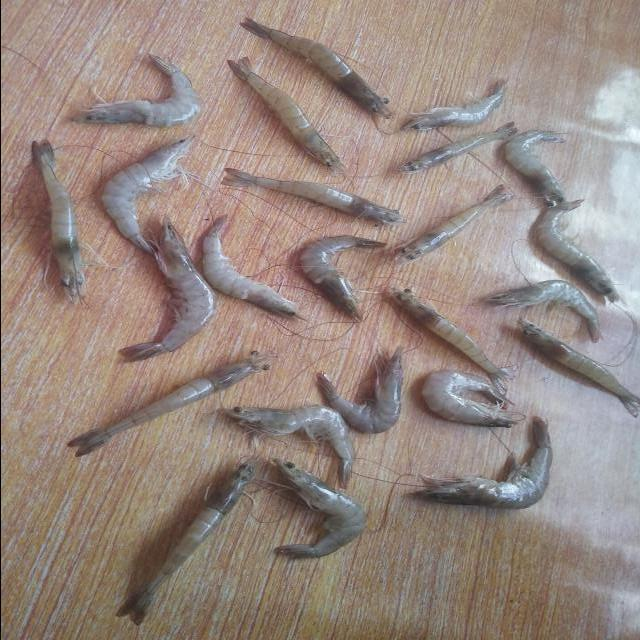shrimp: (116, 458, 258, 626), (67, 351, 273, 457), (240, 17, 391, 119), (119, 217, 215, 362), (227, 56, 345, 171), (391, 285, 517, 391), (413, 417, 553, 510), (518, 319, 640, 418), (216, 405, 354, 489), (100, 135, 193, 254), (202, 215, 304, 319), (221, 168, 405, 225), (395, 185, 514, 265), (273, 459, 366, 560), (72, 53, 199, 126), (30, 140, 84, 302), (538, 199, 620, 302), (318, 347, 403, 434), (299, 235, 386, 319), (485, 280, 601, 342), (399, 121, 519, 173), (421, 370, 522, 428), (401, 77, 506, 130), (505, 129, 567, 205)
